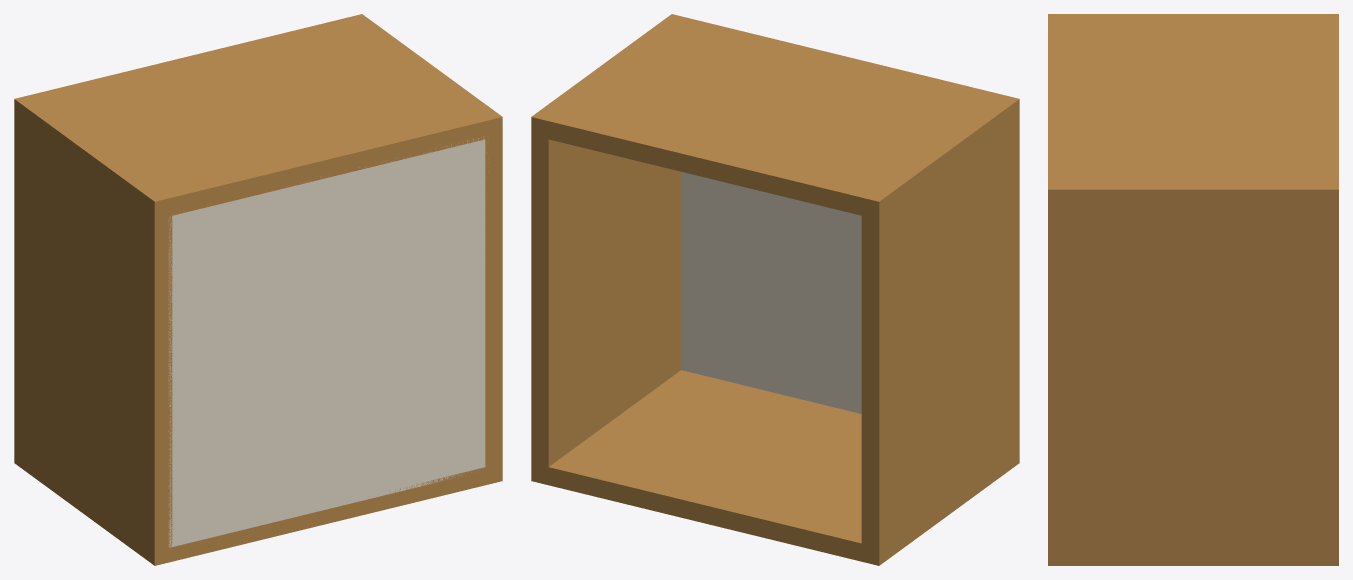
File: SM_LPI_Storage_WallCube_01.fbx
3 views of the same model, side by side, from view 1: azimuth 30°, elevation 25°; view 2: azimuth 150°, elevation 25°; view 3: azimuth 270°, elevation 25° (orthographic). The views are drawn at different scales.
Visible parts, largest first — view 1: SM_LPI_Storage_WallCube_01; view 2: SM_LPI_Storage_WallCube_01; view 3: SM_LPI_Storage_WallCube_01.
Boxes of the visible parts, x1,y1,x2,y2 form: SM_LPI_Storage_WallCube_01: (14,14,502,565); SM_LPI_Storage_WallCube_01: (531,14,1019,565); SM_LPI_Storage_WallCube_01: (1048,14,1338,565).
Bounding box in the file's own units: 0.4 × 0.4 × 0.28.
